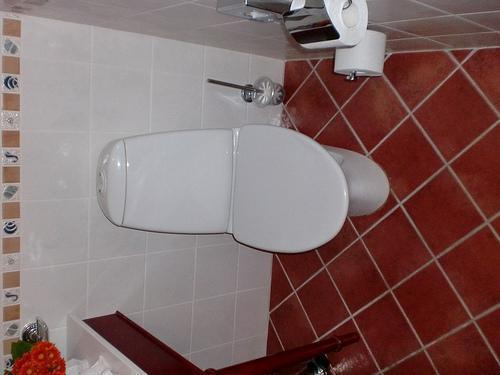Sanitario: (72, 122, 400, 263)
